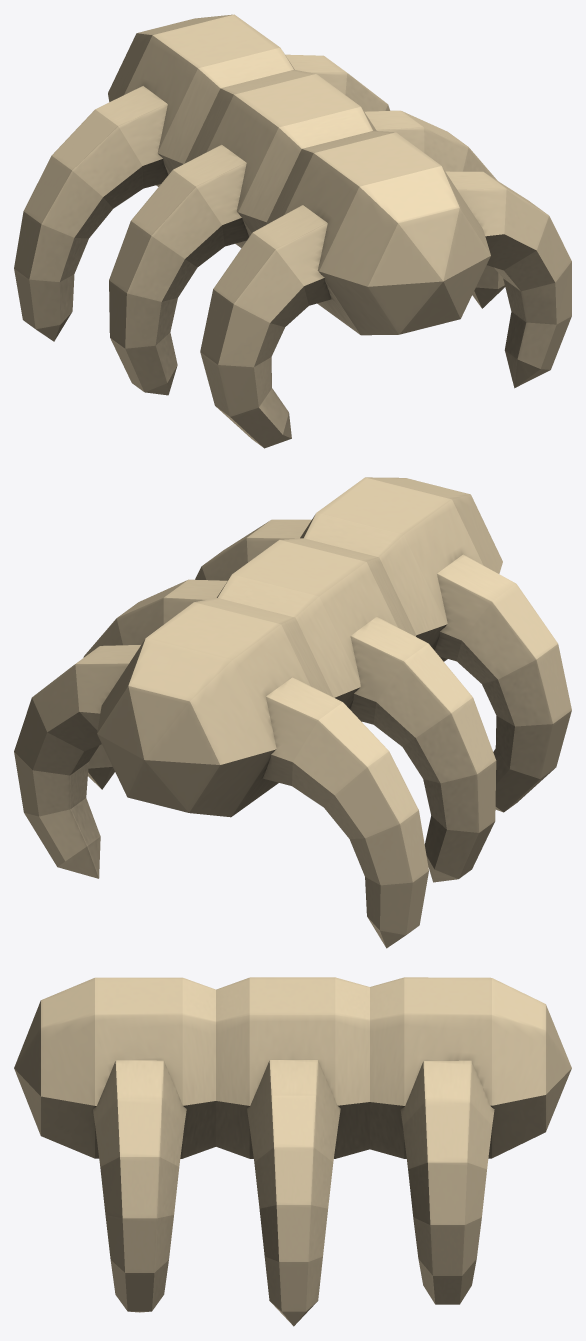
The model's file is Squelette_Corps.FBX.
The picture shows the model from 3 angles, top to bottom: view 1: azimuth 30°, elevation 25°; view 2: azimuth 150°, elevation 25°; view 3: azimuth 270°, elevation 25°; orthographic projection. The views are drawn at different scales.
Visible parts, largest first — view 1: SnakeSquelette_Corps; view 2: SnakeSquelette_Corps; view 3: SnakeSquelette_Corps.
Boxes of the visible parts, <box> form: SnakeSquelette_Corps: <box>14,14,571,448</box>; SnakeSquelette_Corps: <box>14,477,571,948</box>; SnakeSquelette_Corps: <box>14,977,571,1326</box>.
Bounding box in the file's own units: 0.7391 × 0.4628 × 0.9211.
